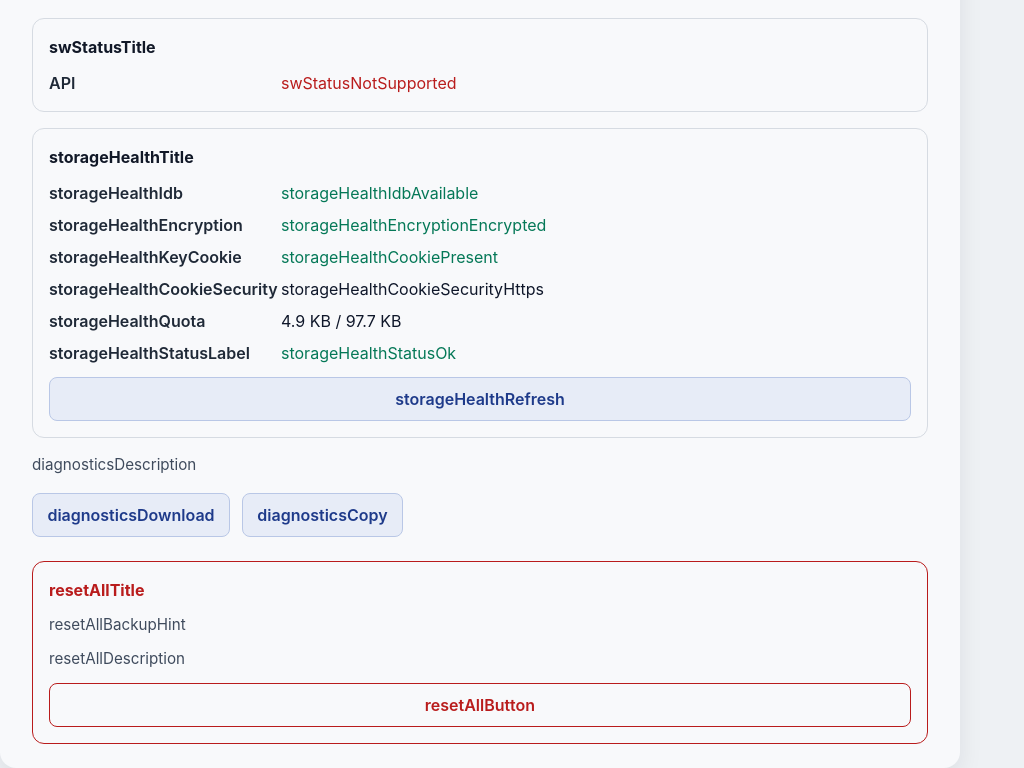
Scenario: HelpPage › reset all local data › shows loading state while resetting
The width and height of the screenshot is (1024, 768).
(page scrolled)
Click the button with test id "reset-all-data". click: (480, 705)
box: 49,683 -> 911,727
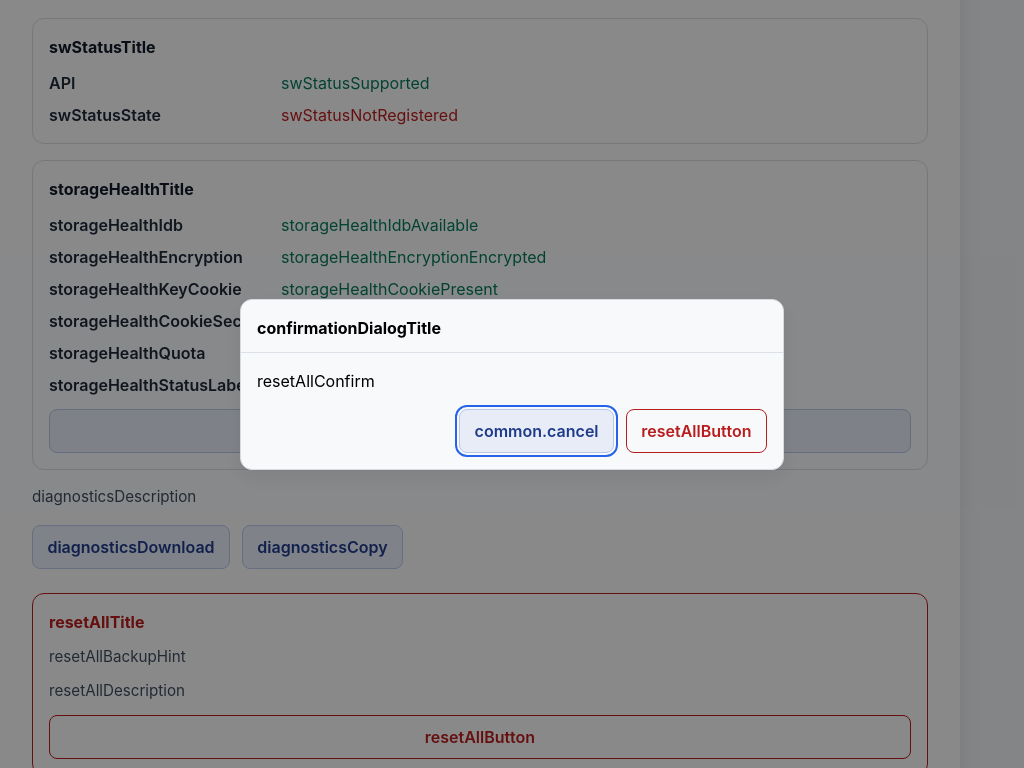
Click the button "resetAllButton". click: (696, 430)
box: 626,408 -> 767,452
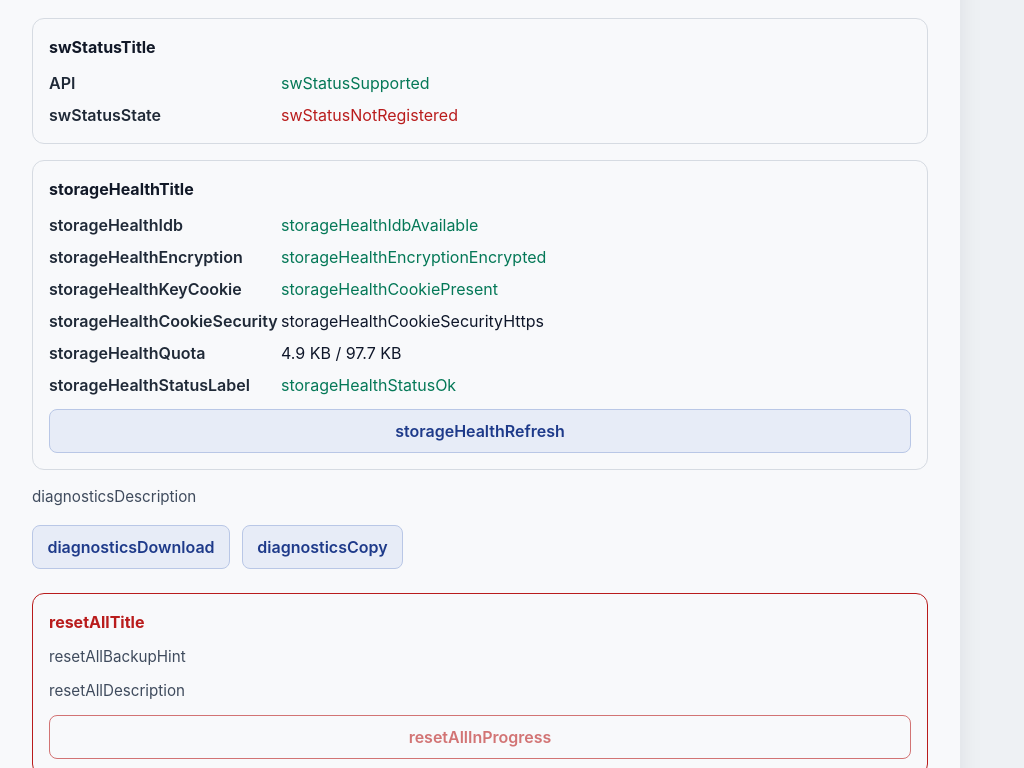
Result: the button with test id "reset-all-data" reads "resetAllInProgress" at 49,715 -> 911,759
Result: the button with test id "reset-all-data" is disabled at 49,715 -> 911,759
